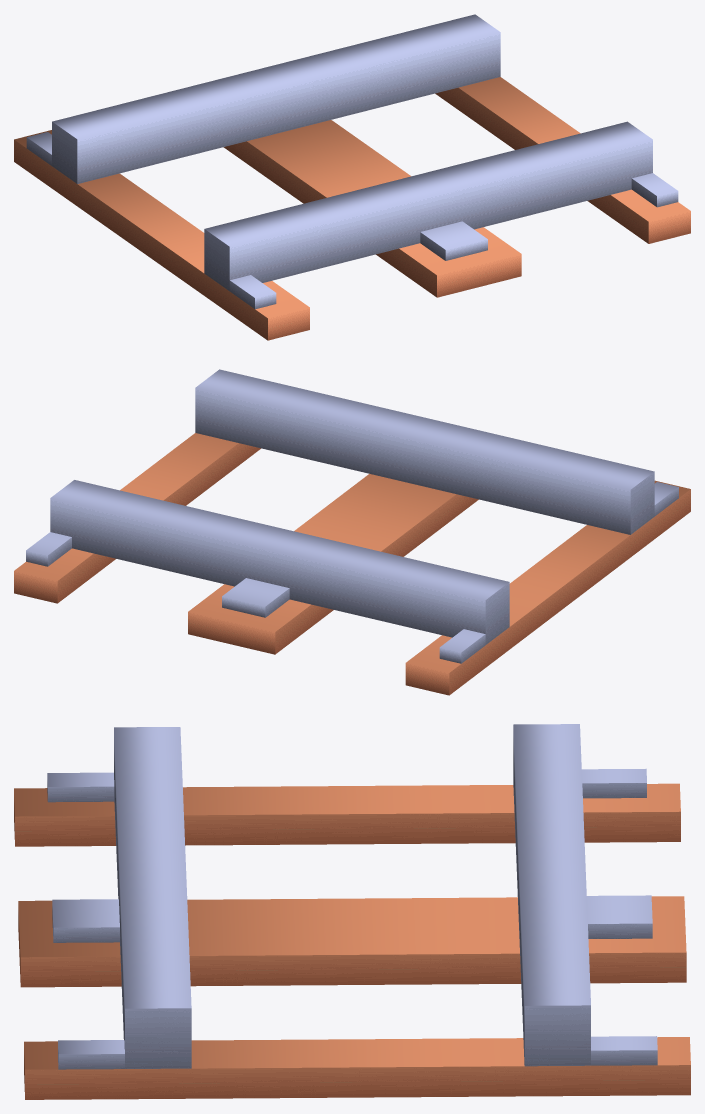
The model's file is track-detailed.010_lev2.glb.
3 views of the same model, one above another, from view 1: azimuth 30°, elevation 25°; view 2: azimuth 150°, elevation 25°; view 3: azimuth 270°, elevation 25° (orthographic). The views are drawn at different scales.
Visible parts, largest first — view 1: track-detailed.010_lev2; view 2: track-detailed.010_lev2; view 3: track-detailed.010_lev2.
Part boxes in pixels (bbox=[...]): track-detailed.010_lev2: bbox=[14, 14, 690, 340]; track-detailed.010_lev2: bbox=[14, 369, 690, 695]; track-detailed.010_lev2: bbox=[14, 724, 690, 1099].
Size of the model in its own units: 2.53 by 0.3734 by 2.53.
1 material, 1 textured.
